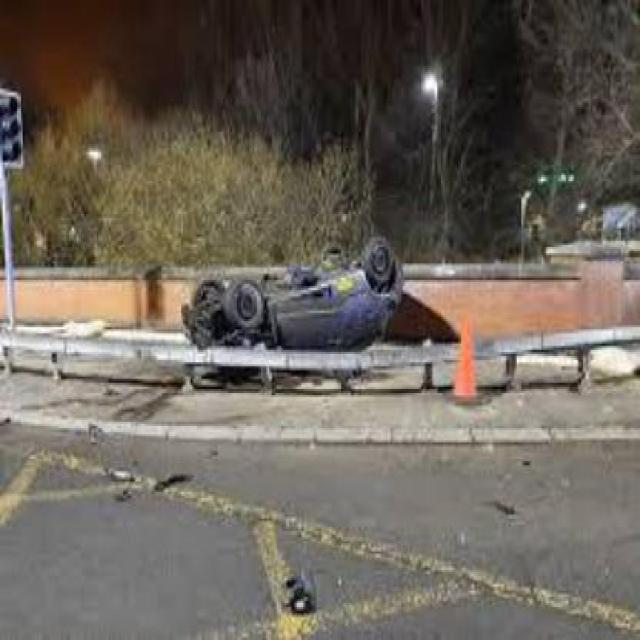accident: (172, 228, 402, 358)
